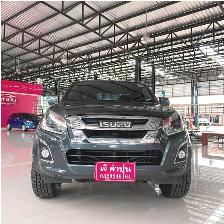NON-EV: (33, 78, 194, 199)
